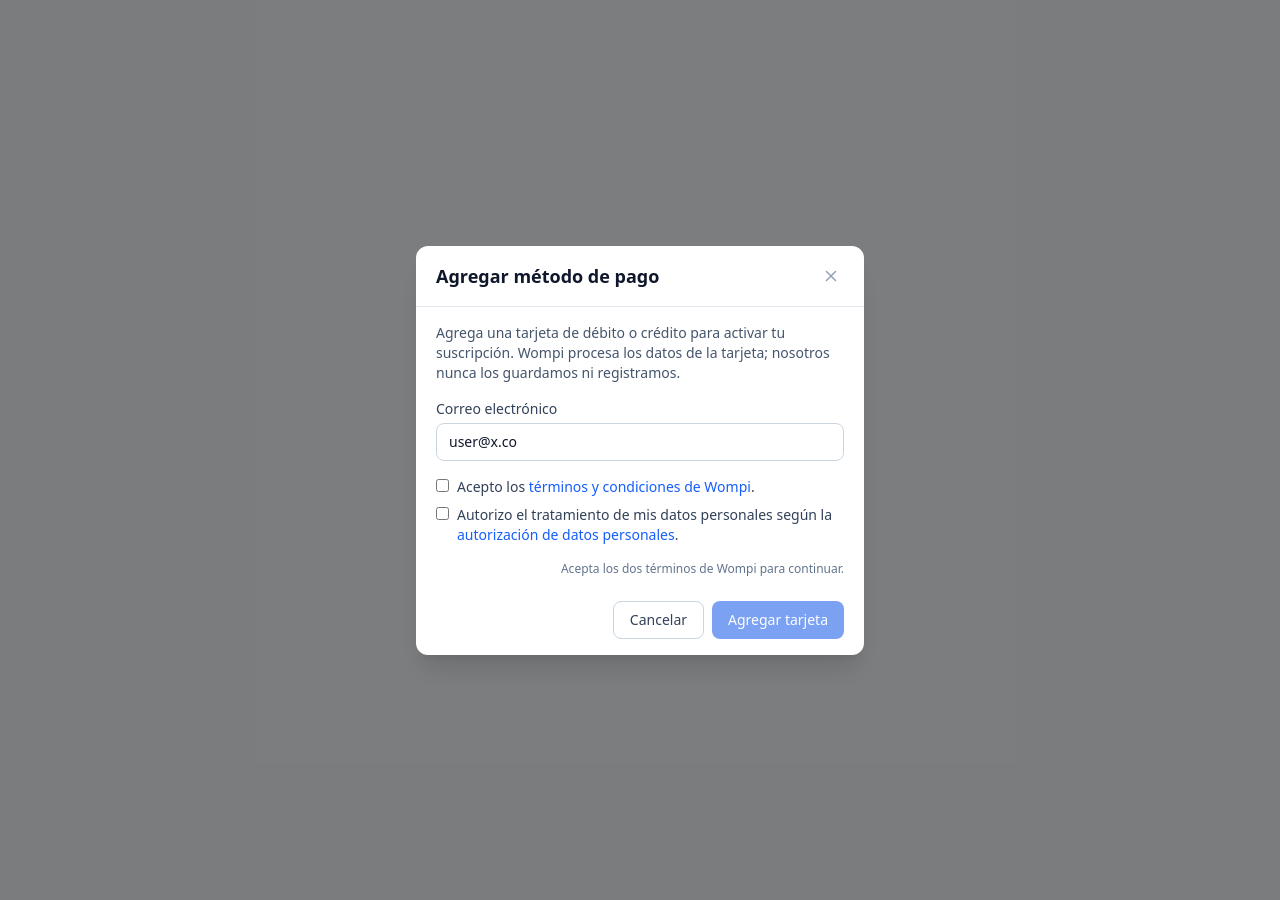
MetodoPagoFlow › shows a Spanish error and re-enables submit when the widget fails to load
Step 1. Click the checkbox labelled "Acepto los términos y condiciones de Wompi ." → (442, 485), box [436,478,449,492]
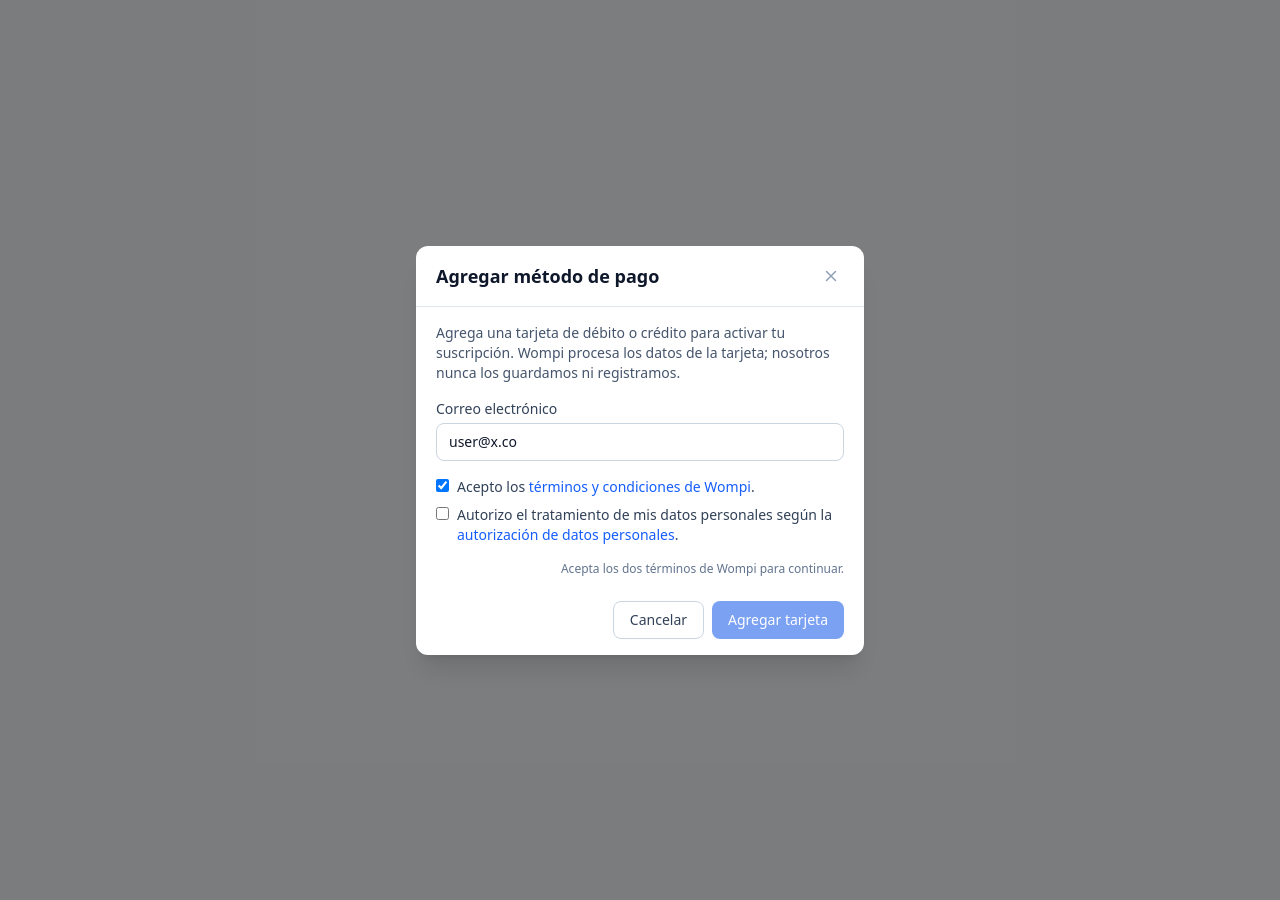
Step 2. Click the 2nd checkbox → (442, 513), box [436,506,449,520]
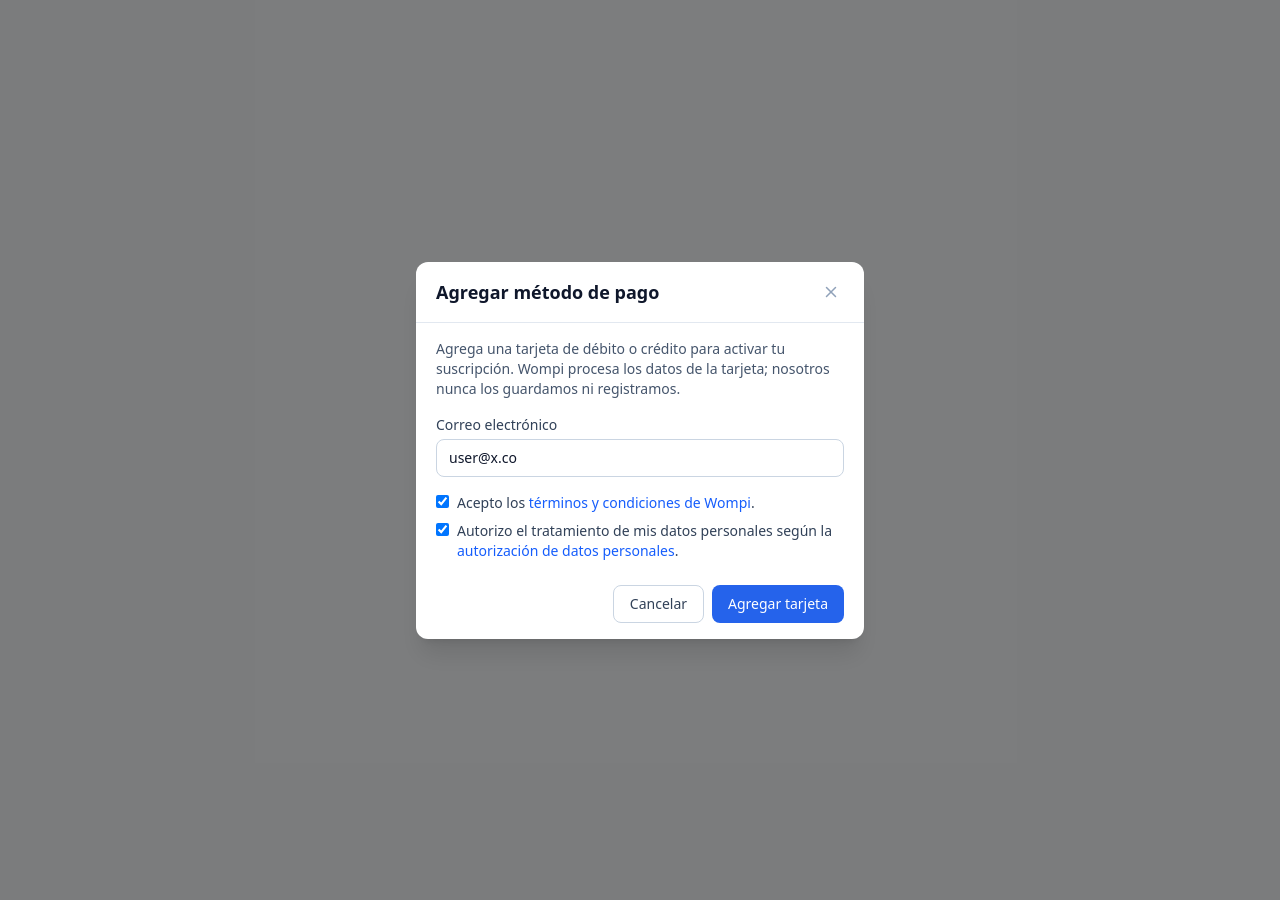
Step 3. Click the button "Agregar tarjeta" → (778, 604), box [712,584,844,622]
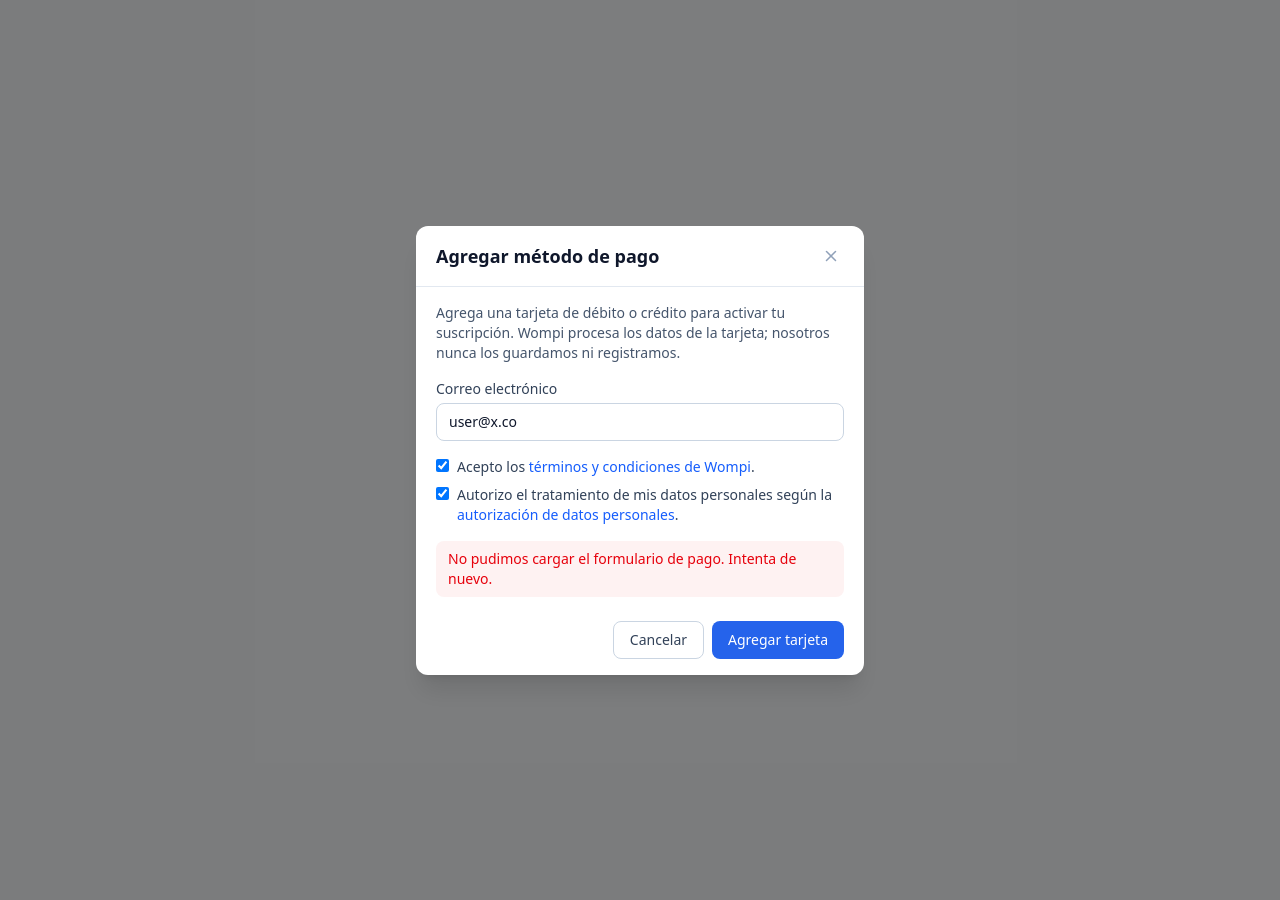
Now the button "Agregar tarjeta" is enabled, box [712,620,844,658]
Now the text "No pudimos cargar el formulario de pago. Intenta de nuevo." is shown, box [436,540,844,596]
